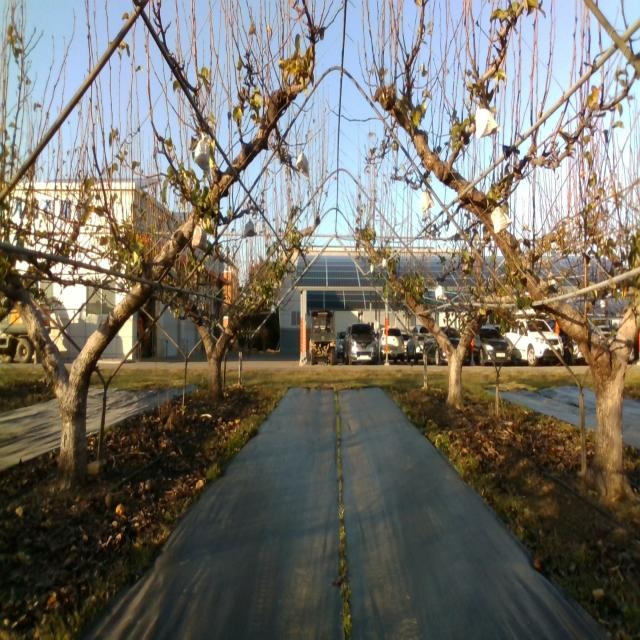pearbags: (476, 105, 500, 140), (194, 131, 210, 171), (490, 204, 512, 233), (192, 218, 207, 254), (296, 151, 309, 177), (420, 190, 434, 212), (243, 218, 256, 239)
